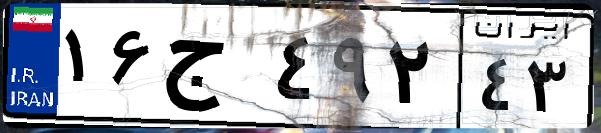1: (57, 26, 110, 100)
2: (385, 28, 445, 110)
3: (525, 38, 570, 115)
4: (270, 28, 330, 110), (475, 38, 525, 113)
6: (110, 28, 158, 98)
9: (330, 28, 385, 110)
ج: (158, 20, 270, 120)
